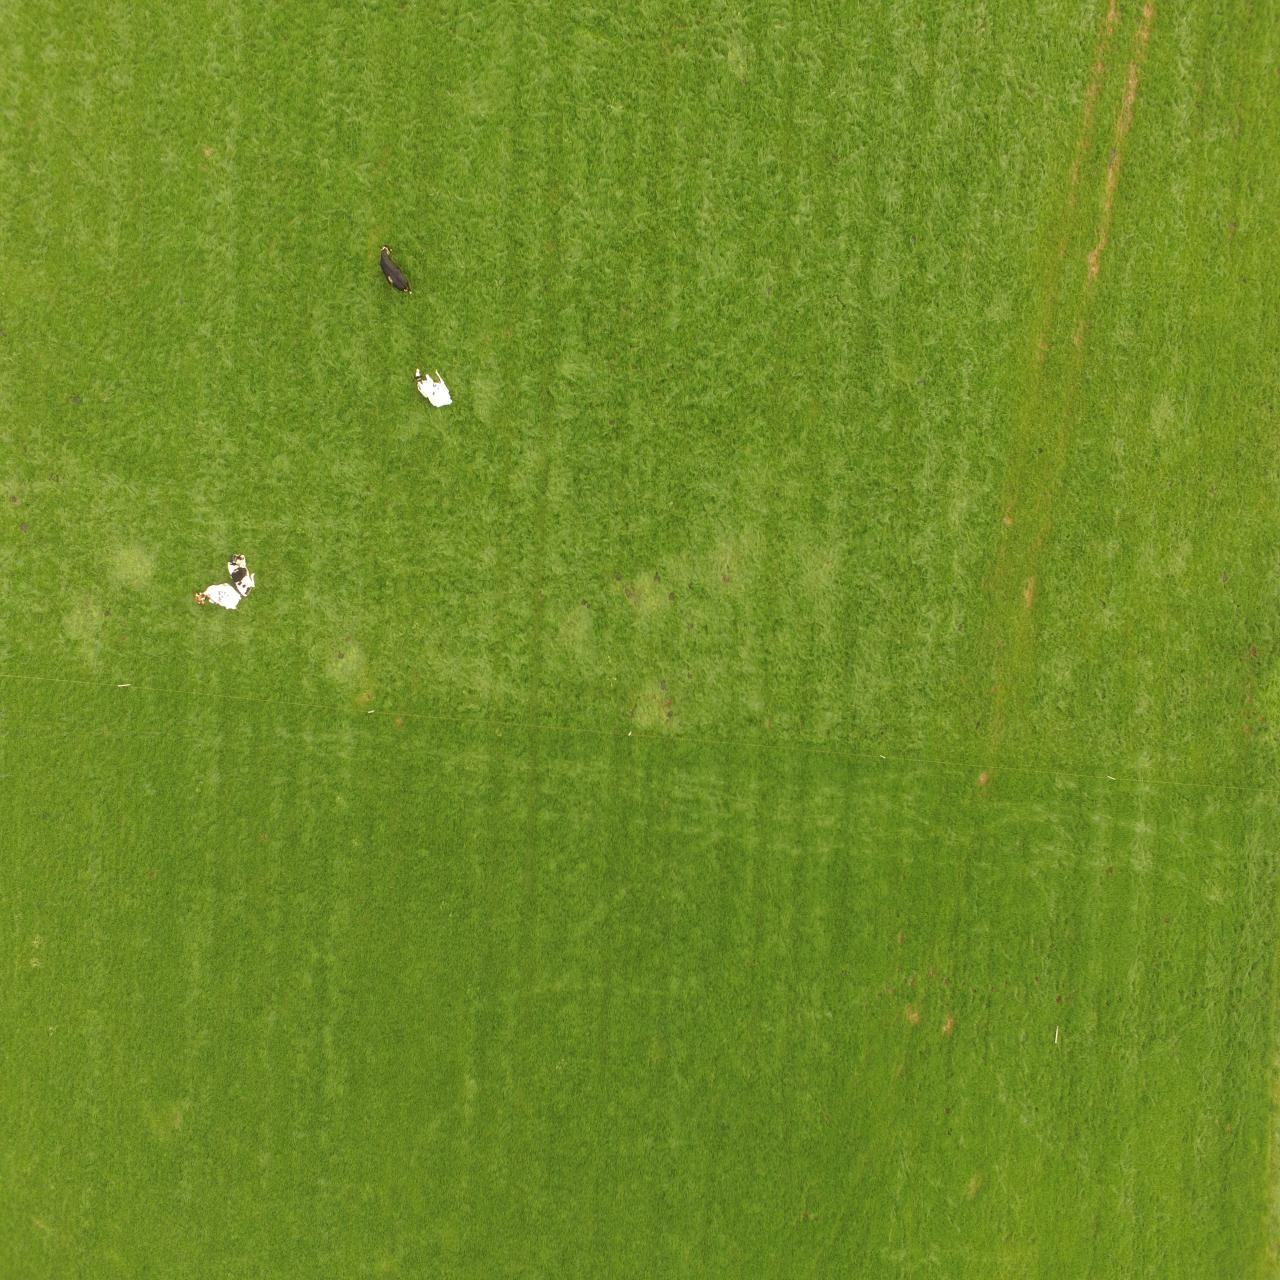cow: (192, 549, 258, 614), (379, 244, 415, 309), (410, 362, 455, 411)
